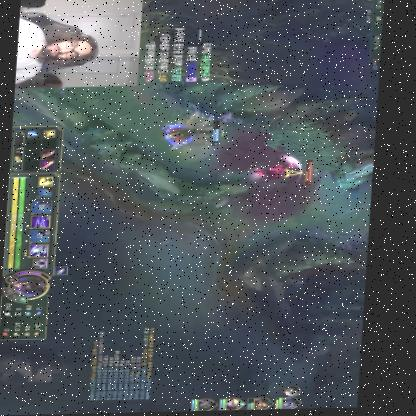streamer: (15, 14, 101, 83)
